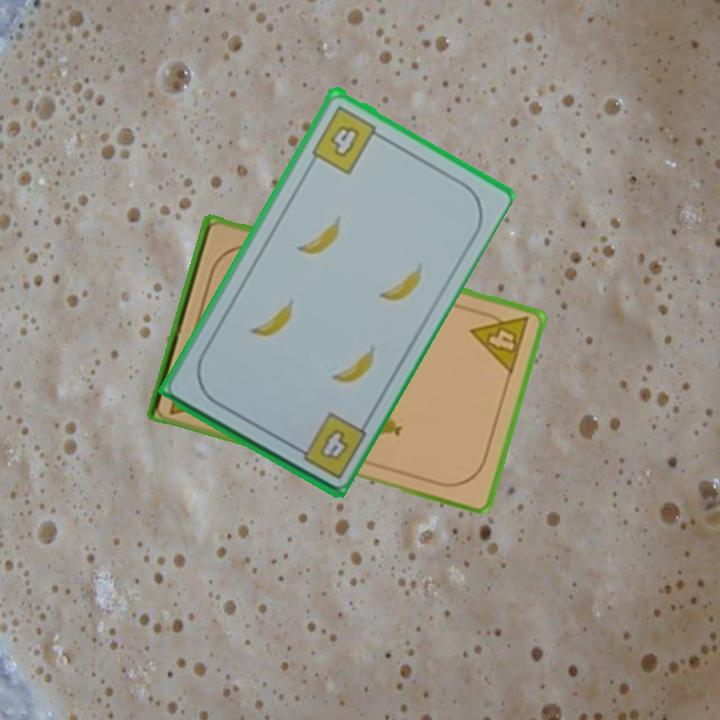4b: (307, 100, 387, 176), (287, 408, 369, 482)
4p: (467, 305, 532, 377)
